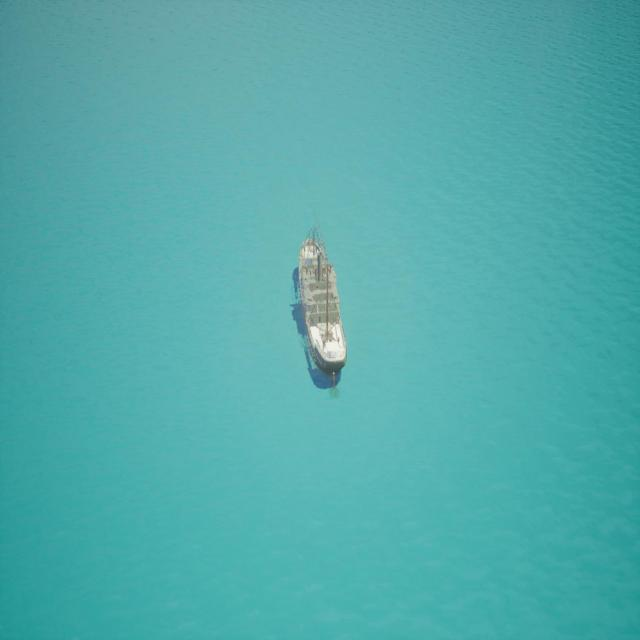fishing ship: (293, 214, 350, 394)
